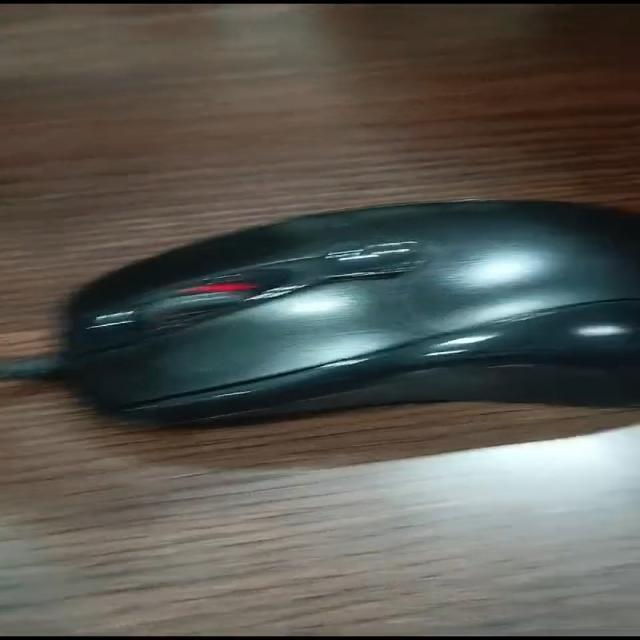Mouse: (27, 171, 640, 467)
